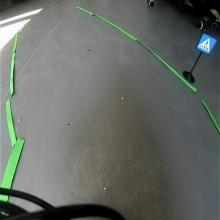crosswalk: (194, 32, 216, 56)
